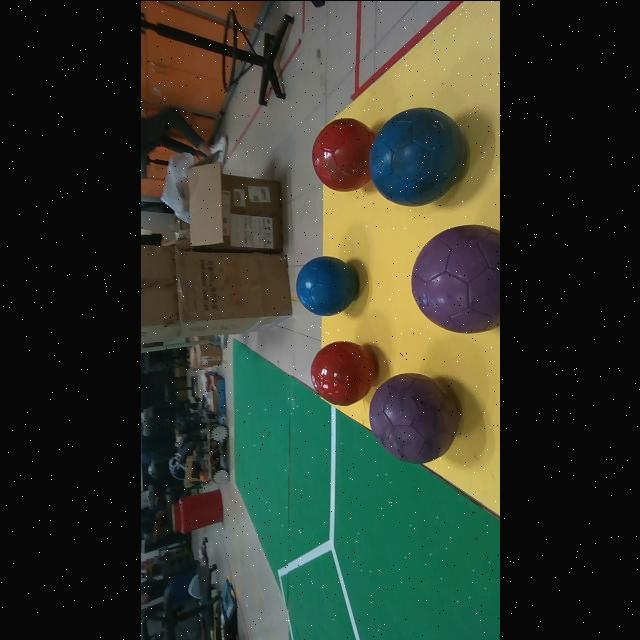B: (369, 107, 465, 206), (296, 255, 357, 316)
P: (411, 225, 500, 333), (369, 372, 457, 463)
R: (312, 118, 374, 190), (311, 341, 375, 404)
